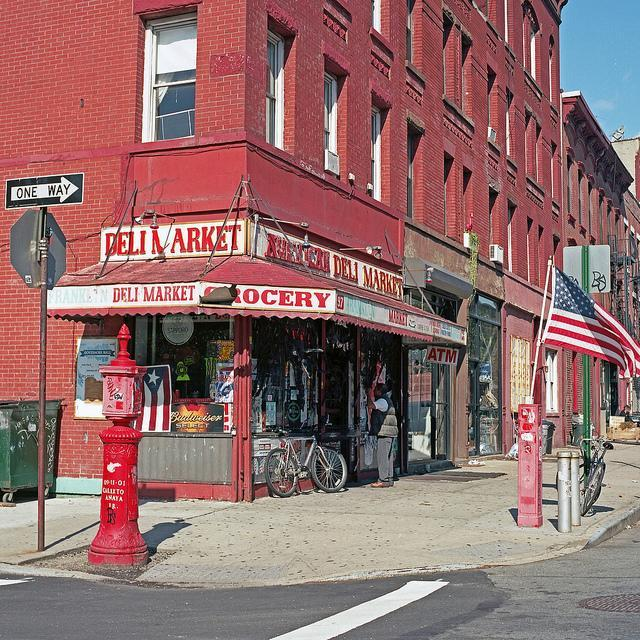fire_hydrant: (85, 323, 150, 568)
